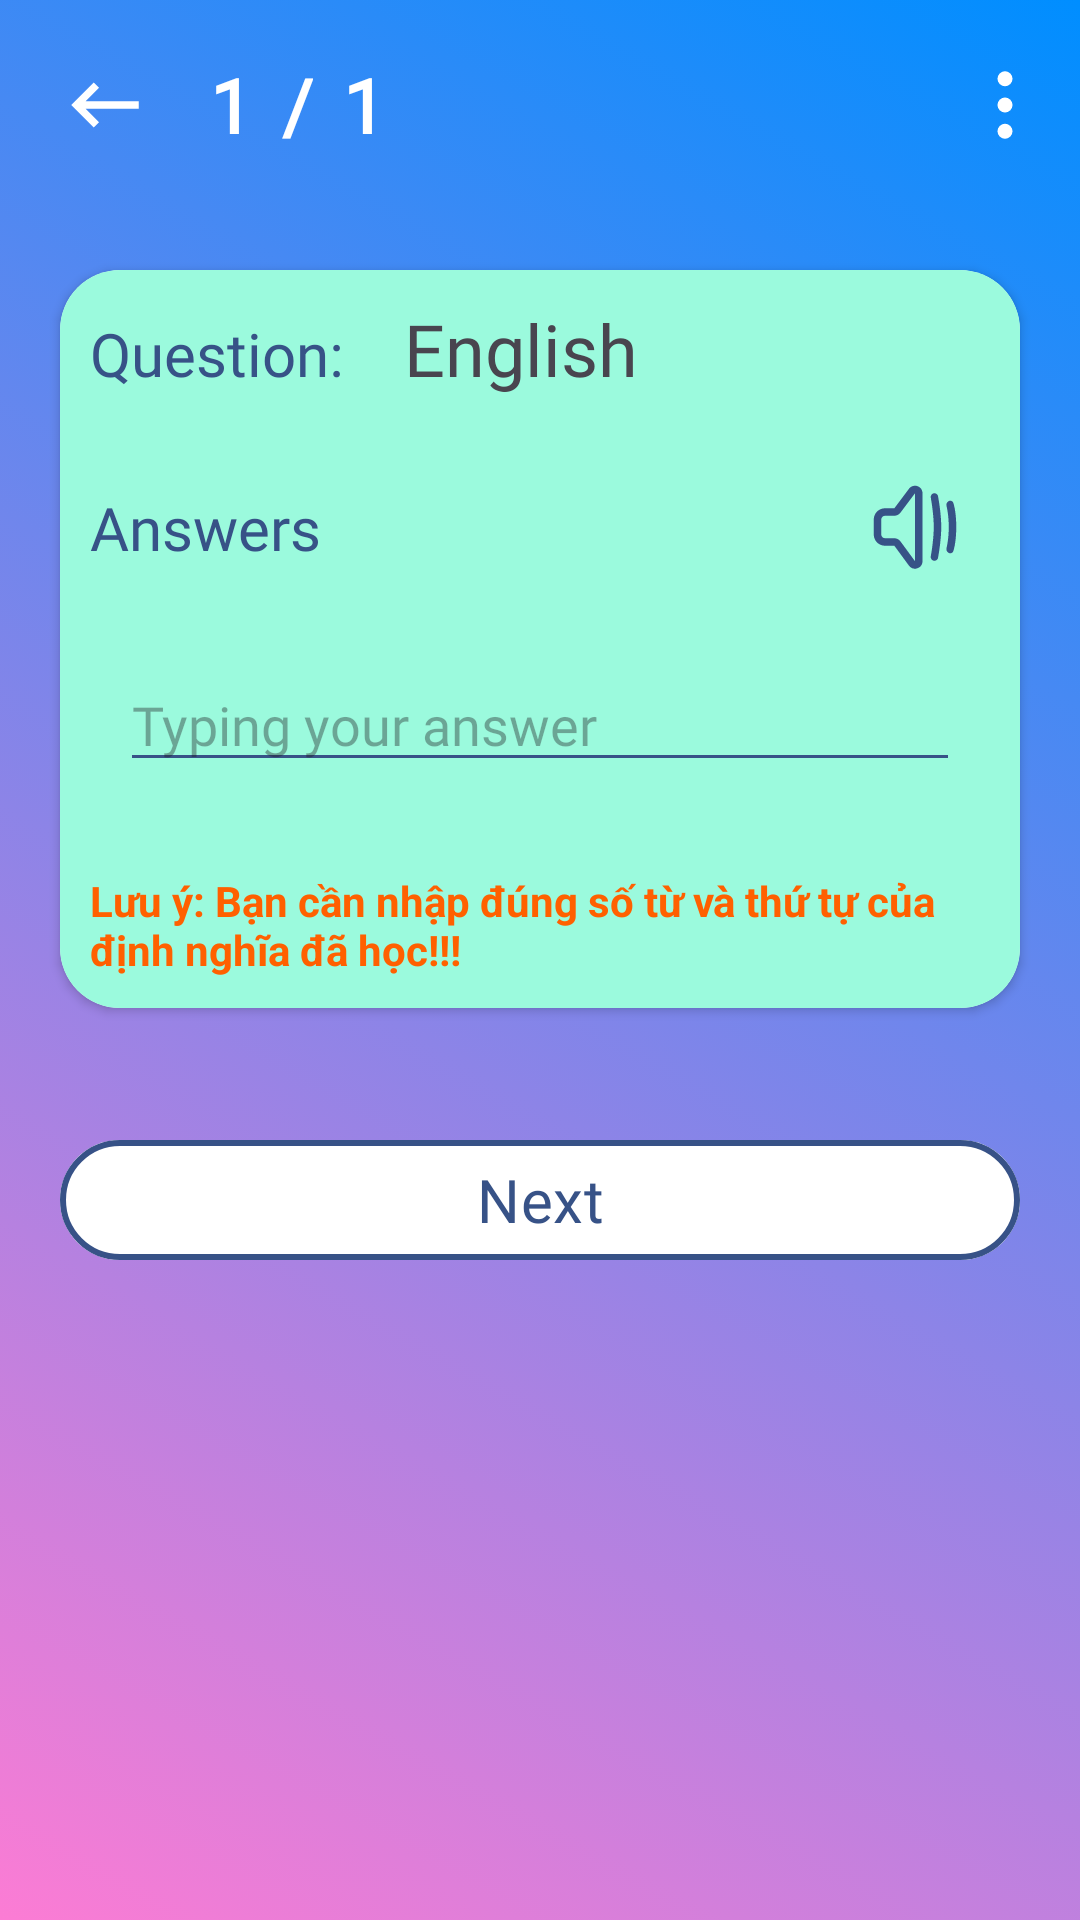

Named icons in this screenshot (1080px x 1920px) and their centers, [x,y]:
keyboard backspace: [105,105]
sound: [915,527]
vertical full: [1005,105]
